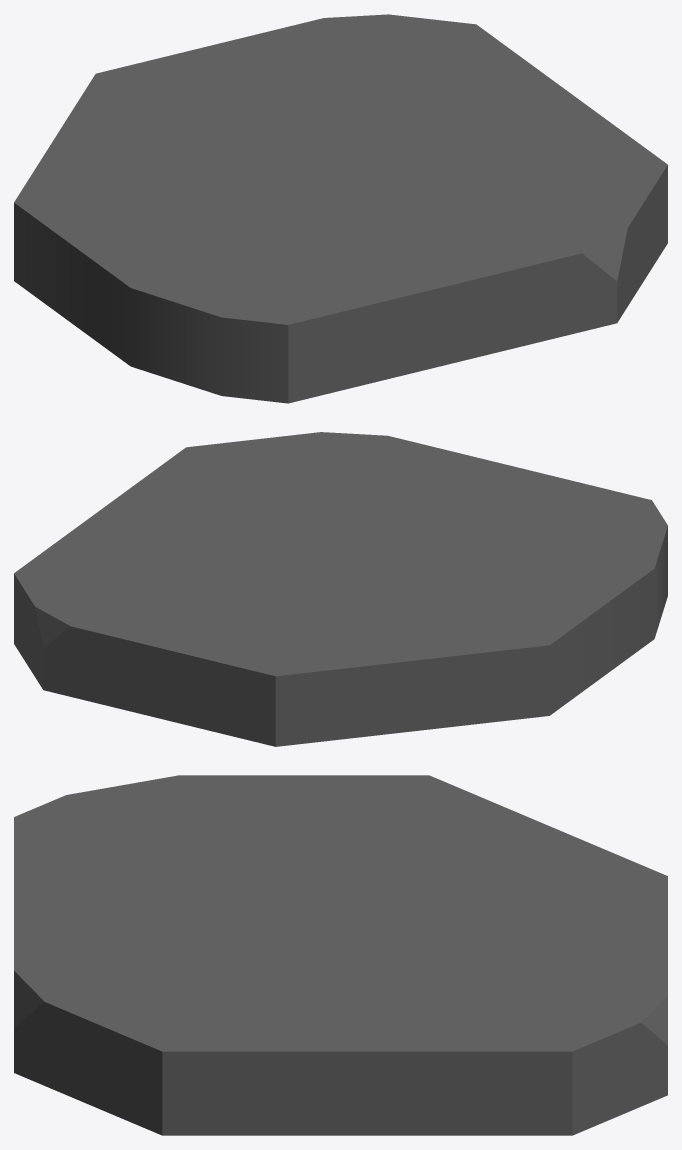
The model's file is Tile_06.fbx.
The picture shows the model from 3 angles, top to bottom: view 1: azimuth 30°, elevation 25°; view 2: azimuth 150°, elevation 25°; view 3: azimuth 270°, elevation 25°; orthographic projection. The views are drawn at different scales.
Parts seen in each view (by area): view 1: Tile_06_LOD0; view 2: Tile_06_LOD0; view 3: Tile_06_LOD0.
Part boxes in pixels (<box>): Tile_06_LOD0: <box>14,14,667,403</box>; Tile_06_LOD0: <box>14,432,667,746</box>; Tile_06_LOD0: <box>14,775,667,1135</box>.
Size of what is drawn, in the model's own units: 0.3056 by 0.0434 by 0.3056.
